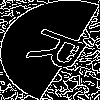R: (24, 25, 100, 78)
